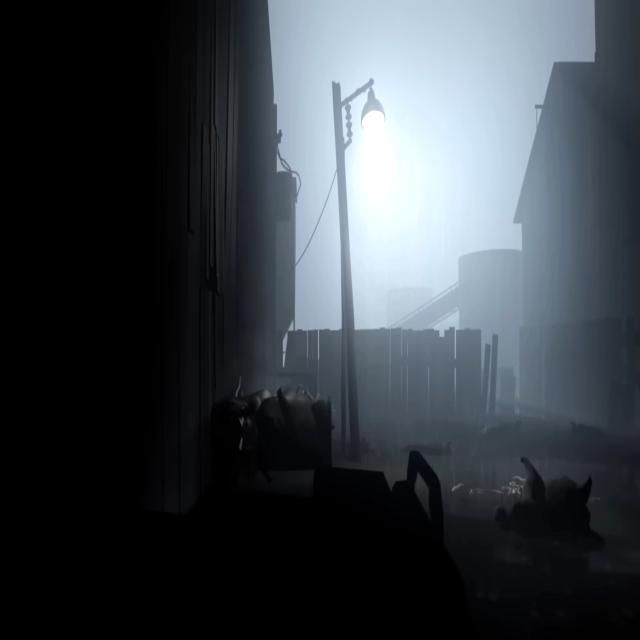boy: (239, 407, 254, 467)
